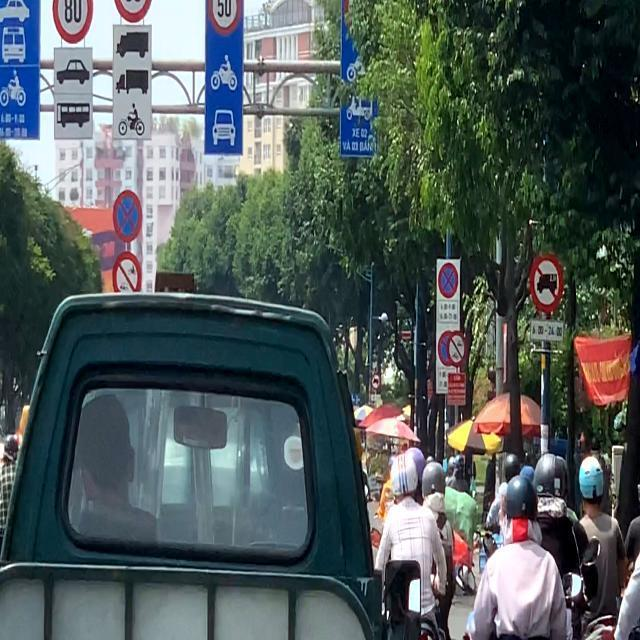127-toc-do-toi-da-50: (208, 0, 249, 31)
127-toc-do-toi-da-80: (50, 0, 98, 43)
130-cam-dung-va-do-xe: (112, 188, 144, 242), (438, 264, 459, 299)
